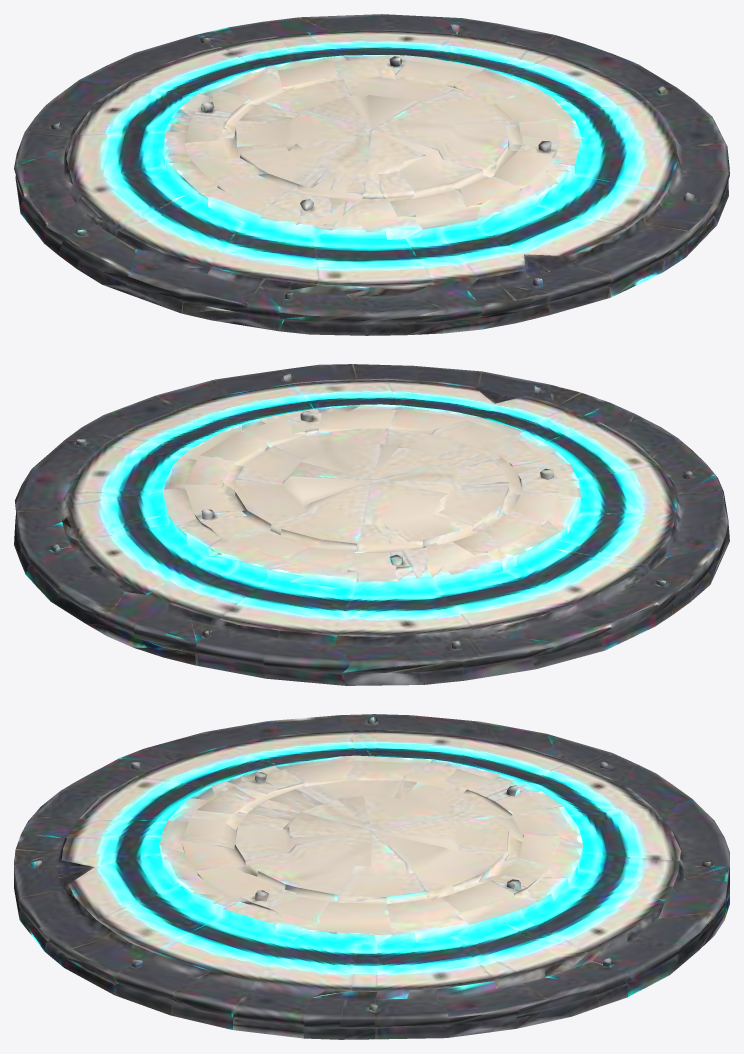
The model's file is teleport-pad.lod1.glb.
3 views of the same model, one above another, from view 1: azimuth 30°, elevation 25°; view 2: azimuth 150°, elevation 25°; view 3: azimuth 270°, elevation 25° (orthographic).
Bounding box in the file's own units: 2.4 × 0.2145 × 2.4.
1 material, 1 textured.
